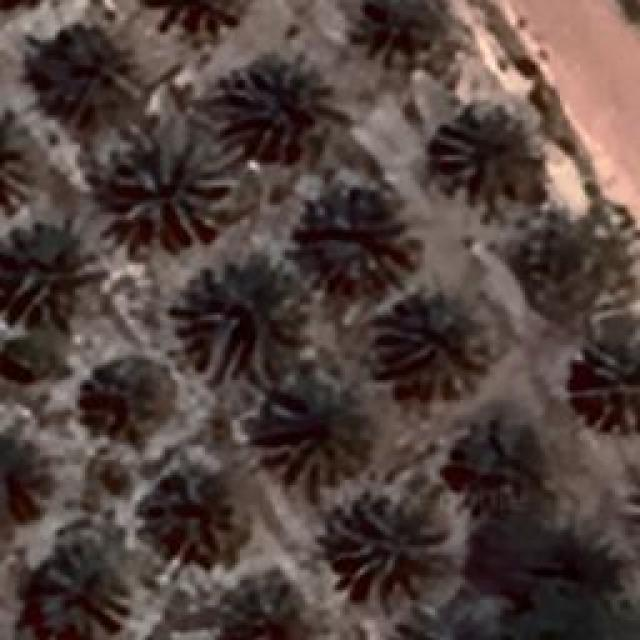PalmTree: (91, 50, 269, 610), (185, 250, 310, 380), (112, 128, 238, 248), (220, 48, 338, 160), (378, 292, 492, 400), (327, 495, 455, 590), (260, 380, 370, 490), (430, 108, 542, 210), (8, 228, 102, 322), (140, 475, 240, 563), (315, 198, 420, 280), (35, 547, 130, 635), (455, 428, 545, 510), (42, 28, 128, 112), (98, 350, 168, 440), (574, 337, 638, 435), (352, 0, 437, 62), (0, 431, 50, 524), (392, 604, 510, 640), (0, 116, 35, 216)
